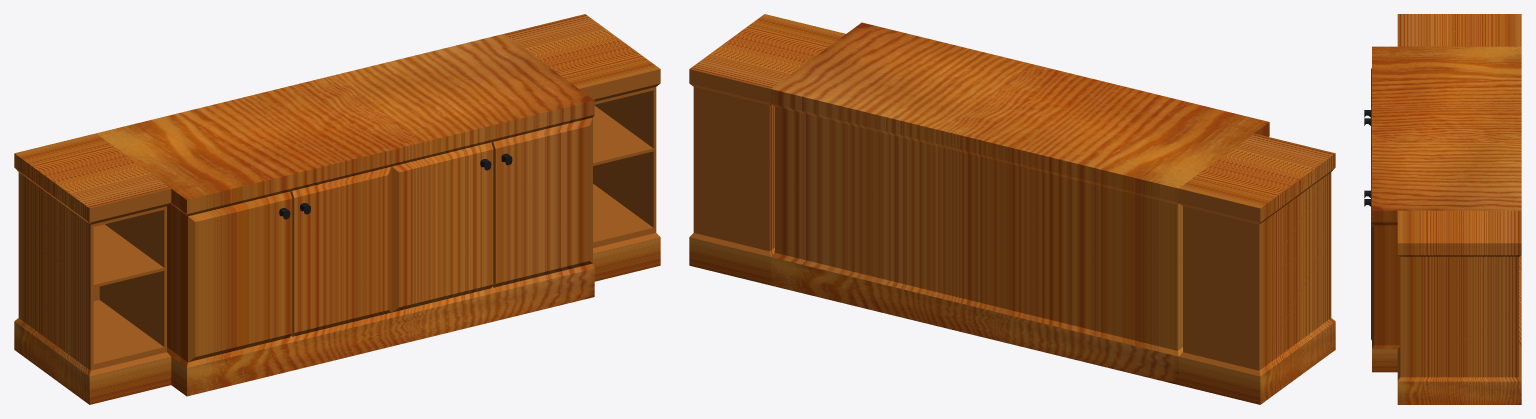
File: tv_stand.fbx
3 renders of one model, left to right at view 1: azimuth 30°, elevation 25°; view 2: azimuth 150°, elevation 25°; view 3: azimuth 270°, elevation 25°, orthographic. The views are drawn at different scales.
Parts seen in each view (by area): view 1: tv_stand; view 2: tv_stand; view 3: tv_stand.
Boxes of the visible parts, x1,y1,x2,y2 form: tv_stand: (14,14,660,404); tv_stand: (689,14,1335,404); tv_stand: (1371,14,1521,404).
Bounding box in the file's own units: 210 × 69.06 × 60.88.
